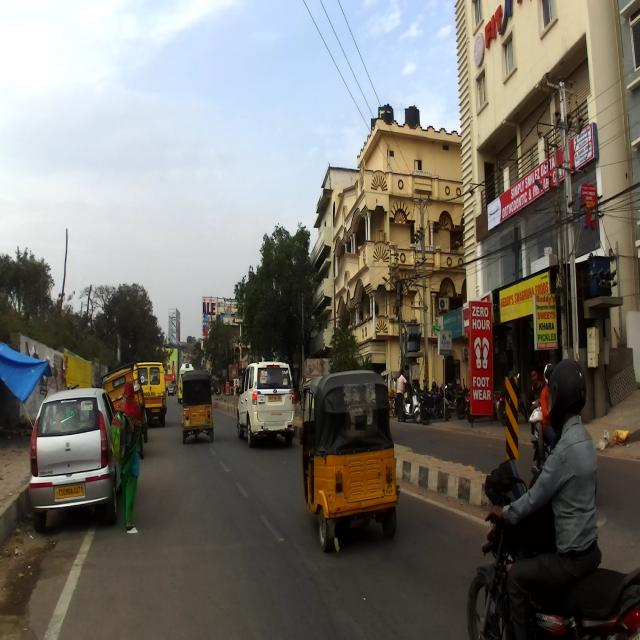auto ahead at: (303, 372, 400, 544), (180, 370, 214, 443)
car ahead at: (32, 388, 116, 526), (236, 356, 301, 448)
motorcycle ahead at: (471, 360, 638, 640)
person ahead at: (116, 374, 147, 543)
